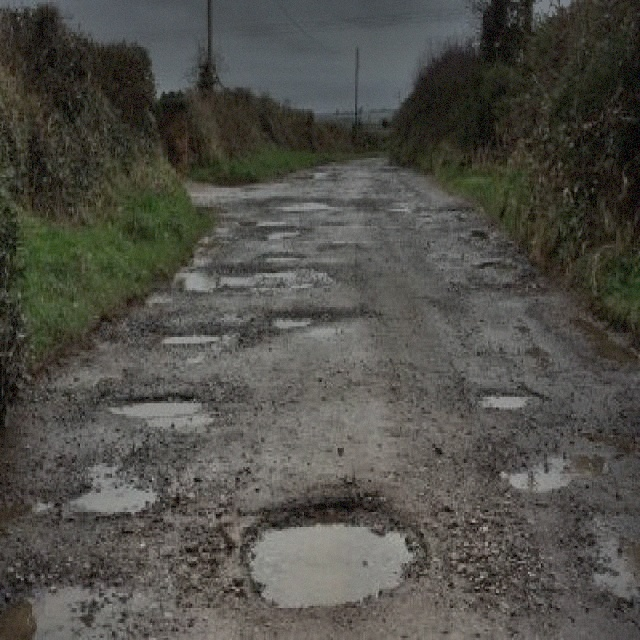pothole: (240, 495, 429, 610), (491, 442, 605, 491), (59, 463, 165, 514), (582, 518, 638, 604), (258, 300, 374, 330), (104, 390, 203, 416), (475, 382, 547, 407), (174, 267, 214, 290), (252, 222, 306, 239)
